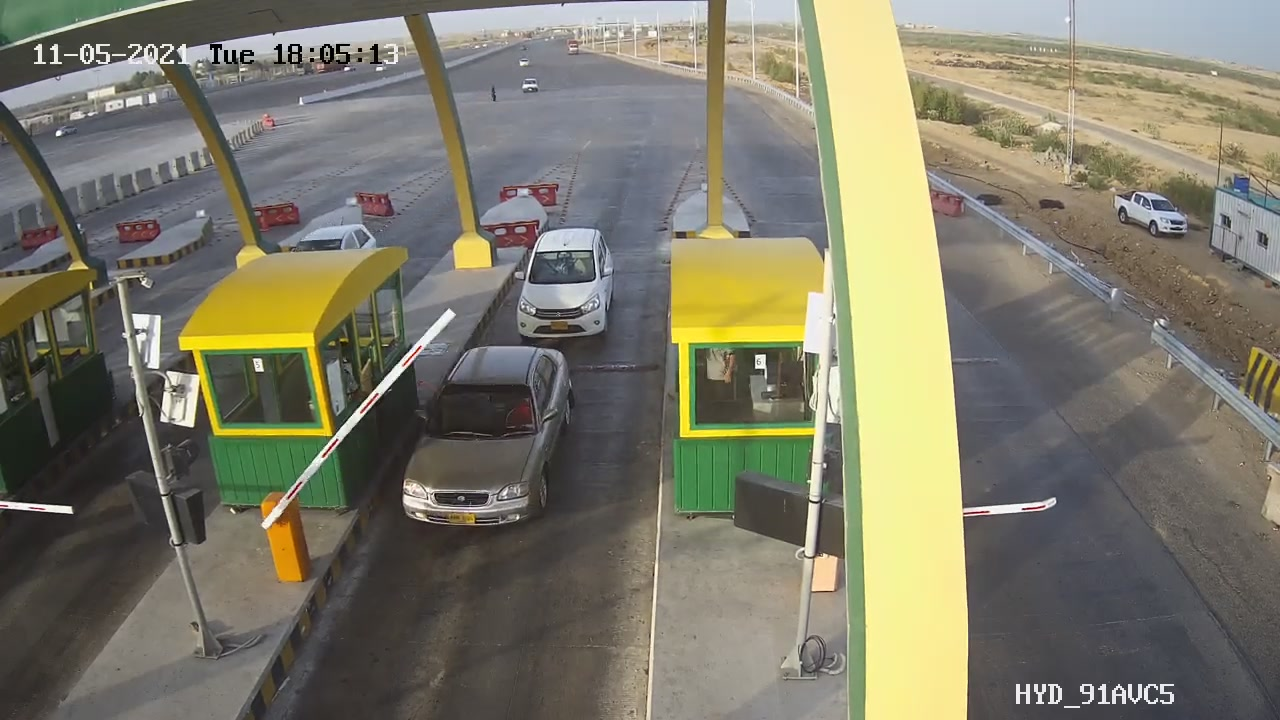F1: (381, 339, 592, 548), (499, 216, 639, 344)
